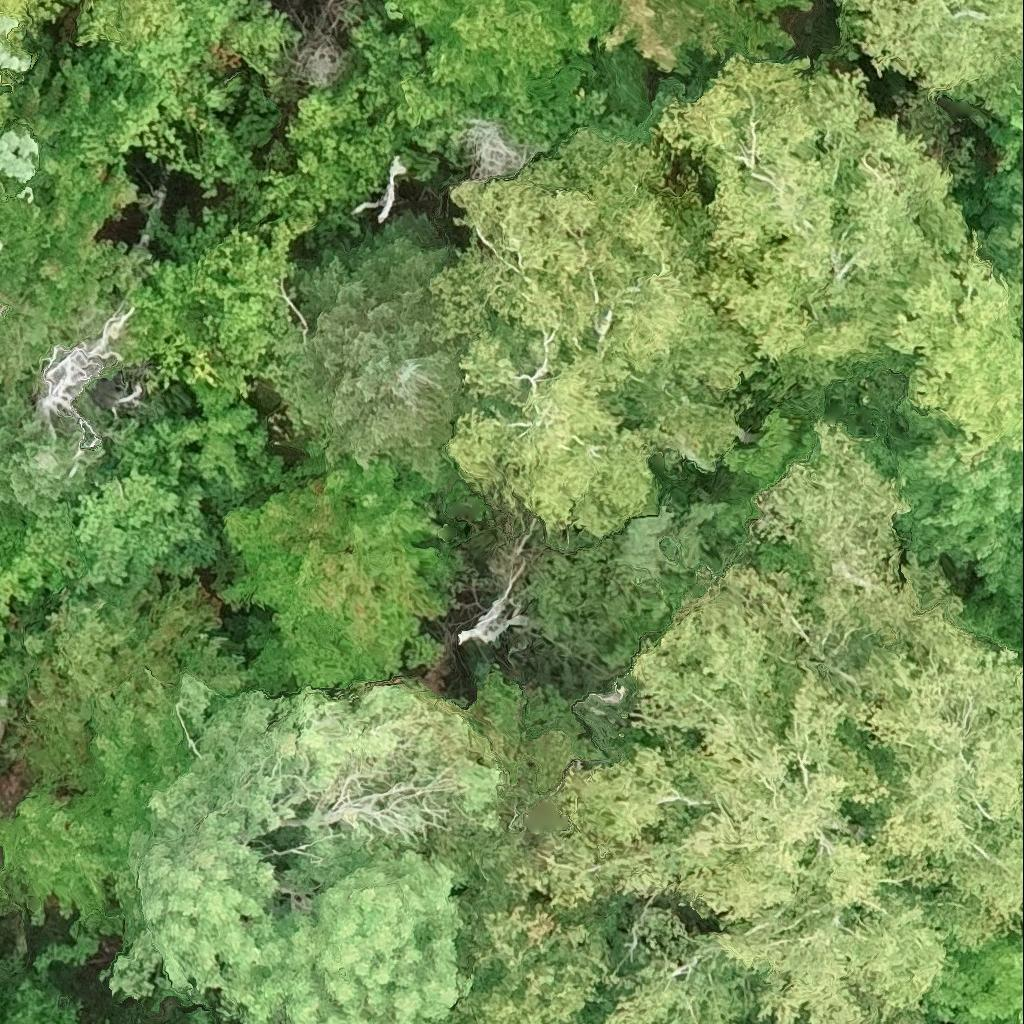crown: (629, 419, 1007, 806), (112, 674, 504, 998), (428, 132, 769, 471), (0, 632, 317, 970), (657, 54, 967, 364), (225, 427, 451, 692), (855, 646, 1023, 963), (674, 678, 879, 932), (219, 827, 474, 1023), (11, 576, 223, 803), (286, 212, 462, 478), (442, 329, 655, 540), (501, 719, 708, 911), (717, 864, 960, 1023), (0, 469, 219, 619), (131, 217, 313, 387), (883, 231, 1023, 447), (352, 15, 565, 155), (0, 149, 149, 327), (389, 0, 616, 114), (261, 78, 404, 238), (605, 907, 786, 1023), (125, 379, 276, 504), (849, 0, 1023, 97), (31, 306, 137, 442), (603, 0, 808, 70), (937, 929, 1023, 1023), (0, 425, 96, 509), (78, 0, 174, 50), (171, 0, 266, 50), (6, 981, 55, 1023), (0, 0, 59, 30), (0, 9, 29, 68), (861, 1000, 925, 1023), (0, 133, 34, 176), (1004, 116, 1023, 159), (1012, 200, 1023, 260), (743, 1010, 773, 1023), (794, 1009, 809, 1023), (0, 616, 3, 646), (44, 1021, 53, 1023), (0, 240, 1, 251)
